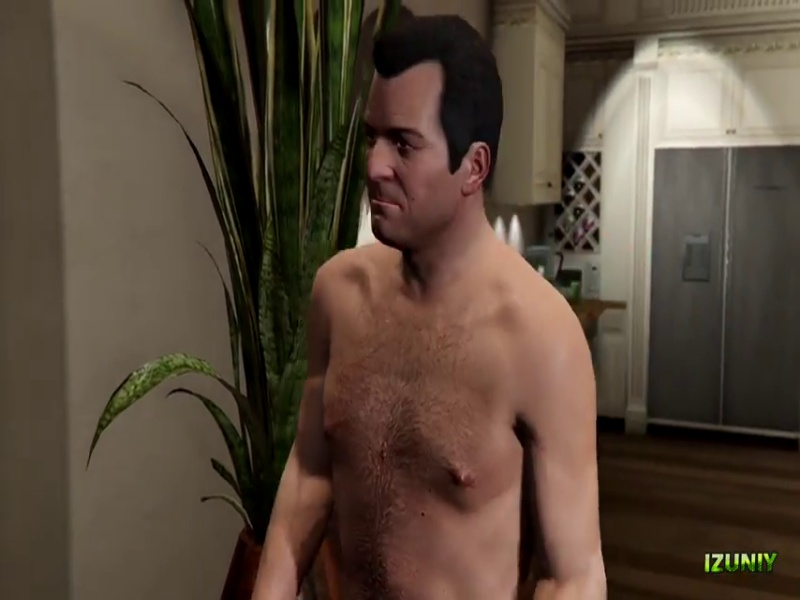human: (228, 8, 603, 597)
